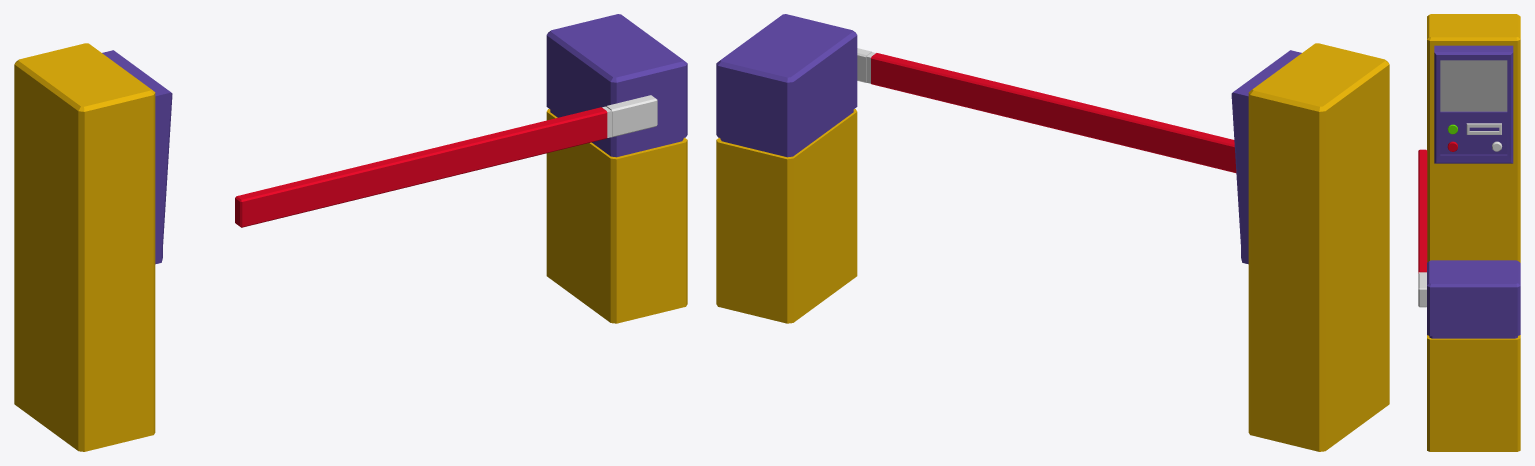
File: Ticket Machine and Blockage.fbx
3 renders of one model, left to right at view 1: azimuth 30°, elevation 25°; view 2: azimuth 150°, elevation 25°; view 3: azimuth 270°, elevation 25°, orthographic. The views are drawn at different scales.
Parts seen in each view (by area): view 1: Ticket_Machine_Body, Blockage_Holder_Bottom, Blockage_Holder_Top, Blockage_Main_Body, Ticket_Machine_Display_Box, Blockage_End; view 2: Ticket_Machine_Body, Blockage_Holder_Bottom, Blockage_Holder_Top, Blockage_Main_Body, Ticket_Machine_Display_Box; view 3: Ticket_Machine_Body, Blockage_Holder_Bottom, Blockage_Holder_Top, Ticket_Machine_Display_Box, Ticket_Machine_Display, Blockage_Main_Body, Card_Slot, Blockage_End.
Boxes of the visible parts, left/top/right/bottom form: Ticket_Machine_Body: left=14, top=43, right=155, bottom=451; Blockage_Holder_Bottom: left=546, top=109, right=687, bottom=323; Blockage_Holder_Top: left=546, top=14, right=687, bottom=157; Blockage_Main_Body: left=235, top=107, right=607, bottom=227; Ticket_Machine_Display_Box: left=102, top=50, right=172, bottom=264; Blockage_End: left=602, top=95, right=657, bottom=137; Ticket_Machine_Body: left=1248, top=43, right=1389, bottom=451; Blockage_Holder_Bottom: left=716, top=109, right=857, bottom=323; Blockage_Holder_Top: left=716, top=14, right=857, bottom=157; Blockage_Main_Body: left=871, top=53, right=1236, bottom=172; Ticket_Machine_Display_Box: left=1231, top=50, right=1301, bottom=264; Ticket_Machine_Body: left=1427, top=14, right=1520, bottom=262; Blockage_Holder_Bottom: left=1427, top=335, right=1520, bottom=451; Blockage_Holder_Top: left=1427, top=260, right=1520, bottom=338; Ticket_Machine_Display_Box: left=1434, top=45, right=1513, bottom=163; Ticket_Machine_Display: left=1440, top=60, right=1507, bottom=111; Blockage_Main_Body: left=1418, top=149, right=1427, bottom=273; Card_Slot: left=1466, top=123, right=1501, bottom=134; Blockage_End: left=1418, top=272, right=1426, bottom=307.
Bounding box in the file's own units: 8.67 × 4.7 × 1.84.
